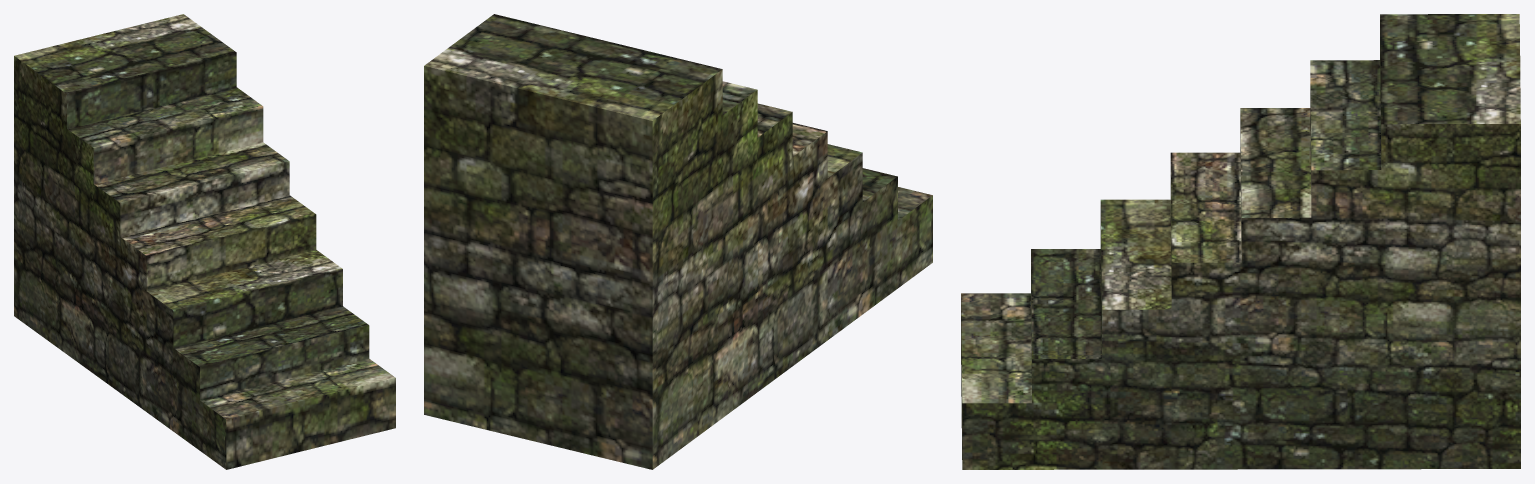
The picture shows the model from 3 angles, left to right: view 1: azimuth 30°, elevation 25°; view 2: azimuth 150°, elevation 25°; view 3: azimuth 270°, elevation 25°; orthographic projection. The views are drawn at different scales.
Parts seen in each view (by area): view 1: TN2_WS-col; view 2: TN2_WS-col; view 3: TN2_WS-col.
Part boxes in pixels (x1=…): TN2_WS-col: x1=14, y1=14, x2=395, y2=469; TN2_WS-col: x1=424, y1=14, x2=932, y2=469; TN2_WS-col: x1=961, y1=14, x2=1520, y2=469.
Bounding box in the file's own units: 1.86 × 2.7 × 3.97.
Materials: 1 (1 with a texture image).
